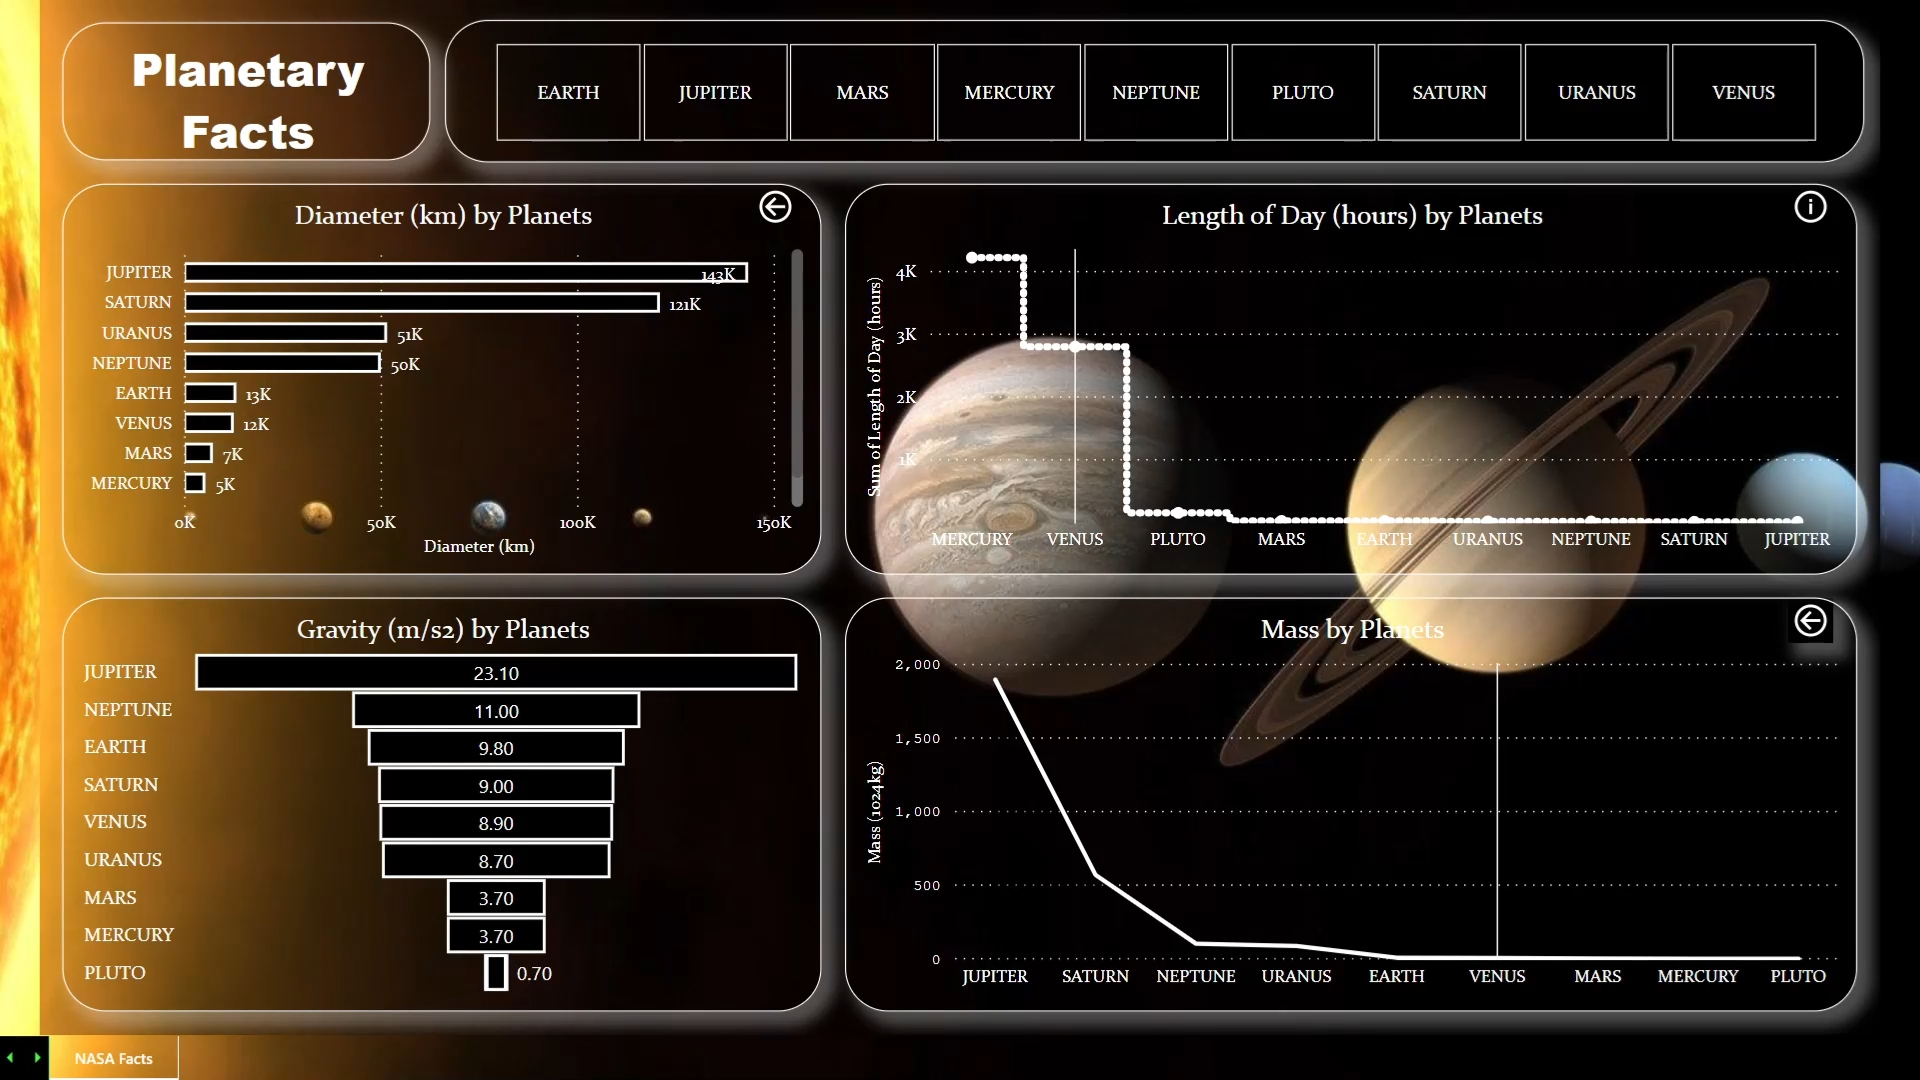

Layout of this report page (visuals, bound fields, positions):
{"tool":"powerbi","page":{"name":"NASA Facts","canvas":[1280,720],"ordinal":0},"visuals":[{"type":"textbox","title":"Planetary Facts","box":[16,16,256,96],"z":0},{"type":"stackedAreaChart","title":"Mass by Planets","fields":{"Category":["req_table.Planets"],"Y":["Sum(req_table.Mass (1024kg))"]},"box":[560,416,704,288],"z":1000},{"type":"barChart","fields":{"Category":["req_table.Planets"],"Y":["Sum(req_table.Diameter (km))"]},"box":[16,128,528,272],"z":2000},{"type":"funnel","fields":{"Category":["req_table.Planets"],"Y":["Sum(req_table.Gravity (m/s2))"]},"box":[16,416,528,288],"z":3000},{"type":"lineChart","title":"Length of Day (hours) by Planets","fields":{"Category":["req_table.Planets"],"Y":["Sum(req_table.Length of Day (hours))"]},"box":[560,128,704,272],"z":4000},{"type":"slicer","fields":{"Values":["req_table.Planets"]},"box":[281.5,13.7,987.5,98.9],"z":5000},{"type":"actionButton","box":[496,128,32,32],"z":6000},{"type":"actionButton","box":[1216,128,32,32],"z":7000},{"type":"actionButton","box":[1216,416,32,32],"z":8000}]}

Visuals, with their boxes on the page's 1280x720 design canvas (x1, y1, x2, y2). These are canvas units, not pixel positions in the 1920x1080 screenshot, which may show the page scaled, cropped or inside an application window:
"Planetary Facts" textbox: {"x1": 16, "y1": 16, "x2": 272, "y2": 112}
"Mass by Planets" stackedAreaChart: {"x1": 560, "y1": 416, "x2": 1264, "y2": 704}
barChart - req_table.Planets x Sum(req_table.Diameter (km)): {"x1": 16, "y1": 128, "x2": 544, "y2": 400}
funnel - req_table.Planets x Sum(req_table.Gravity (m/s2)): {"x1": 16, "y1": 416, "x2": 544, "y2": 704}
"Length of Day (hours) by Planets" lineChart: {"x1": 560, "y1": 128, "x2": 1264, "y2": 400}
slicer - req_table.Planets: {"x1": 282, "y1": 14, "x2": 1269, "y2": 113}
actionButton: {"x1": 496, "y1": 128, "x2": 528, "y2": 160}
actionButton: {"x1": 1216, "y1": 128, "x2": 1248, "y2": 160}
actionButton: {"x1": 1216, "y1": 416, "x2": 1248, "y2": 448}
